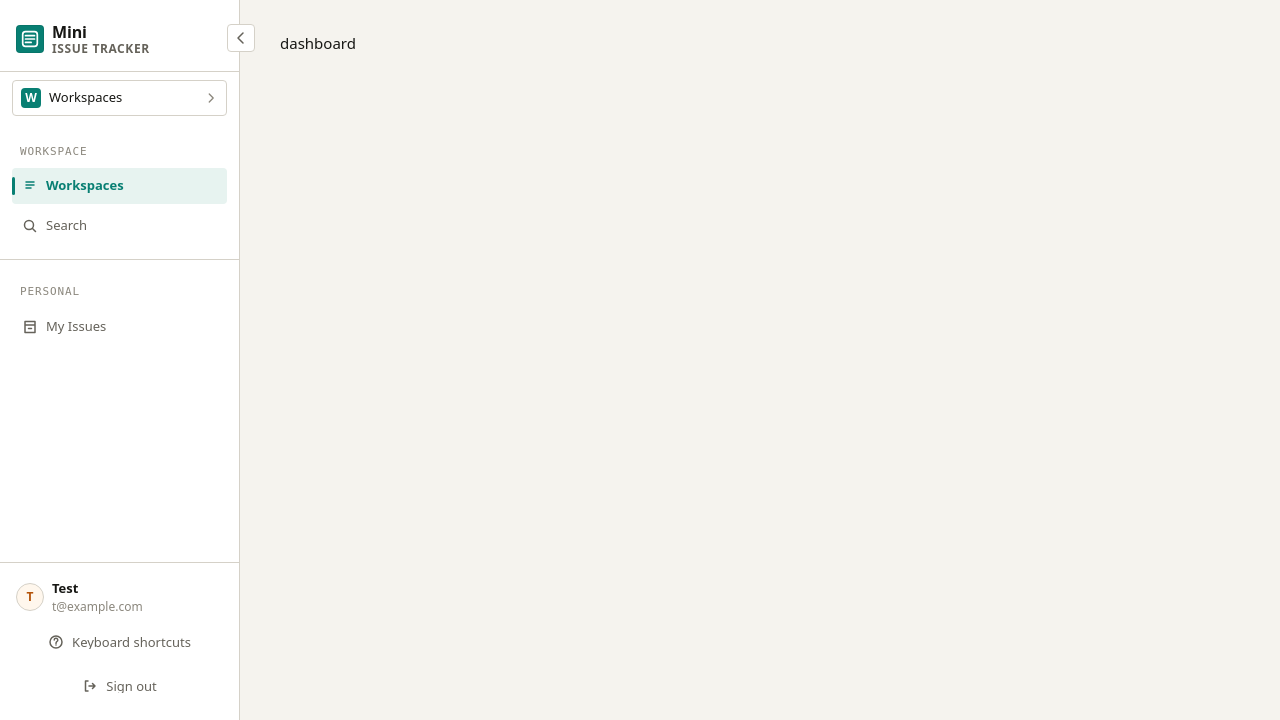
Test case: Layout global shortcuts › opens the help dialog from the footer affordance
The width and height of the screenshot is (1280, 720).
Click the button "Keyboard shortcuts" at {"x": 120, "y": 642}, box [12,624,227,660]
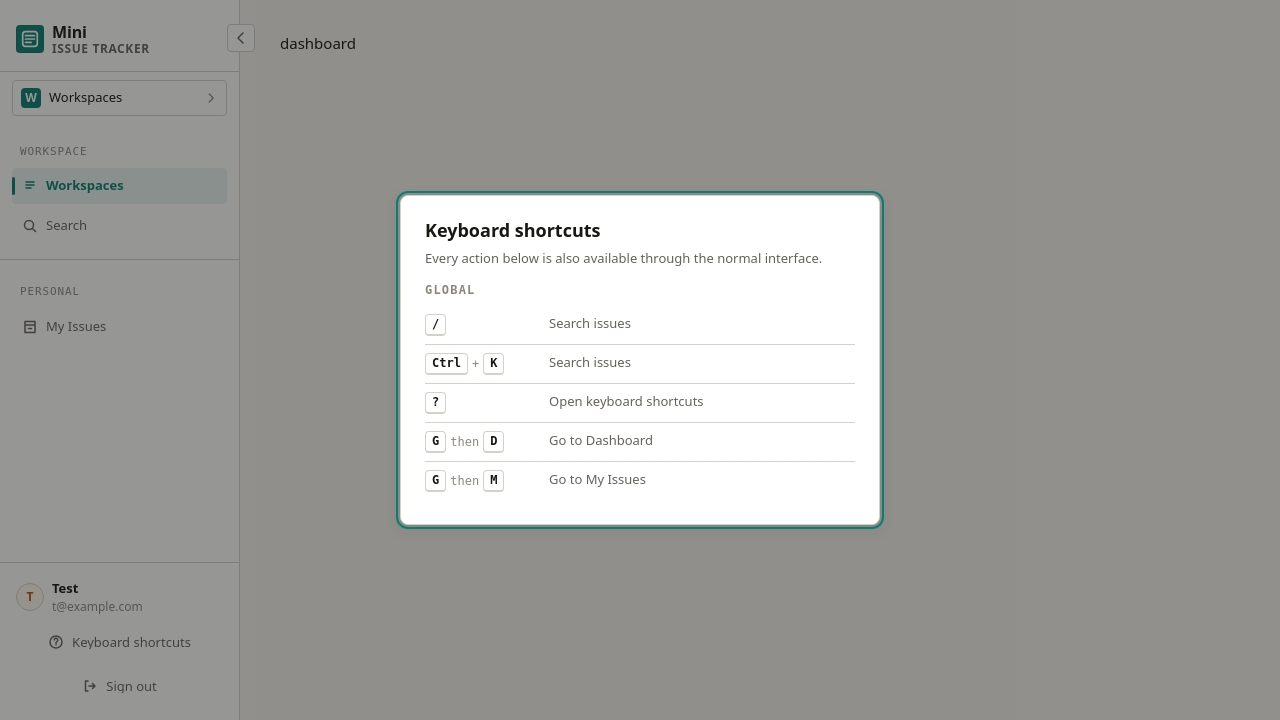
Expected: the dialog is shown, [400,195,880,525]
